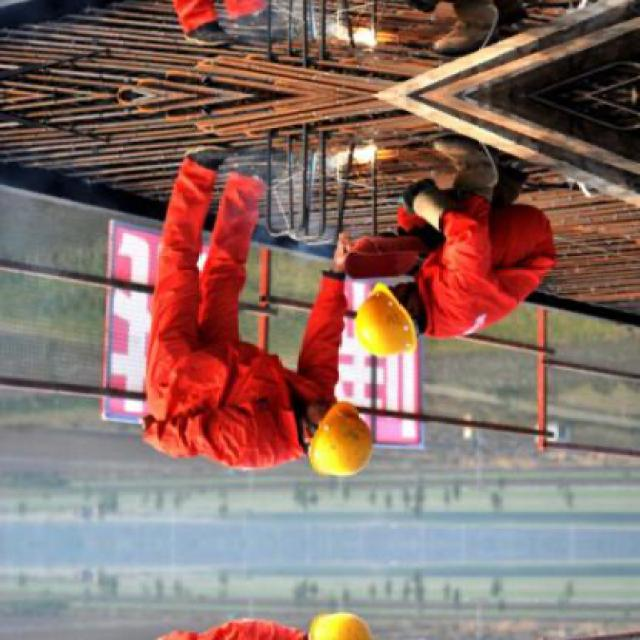con casco: (268, 394, 389, 493), (347, 274, 437, 369)
